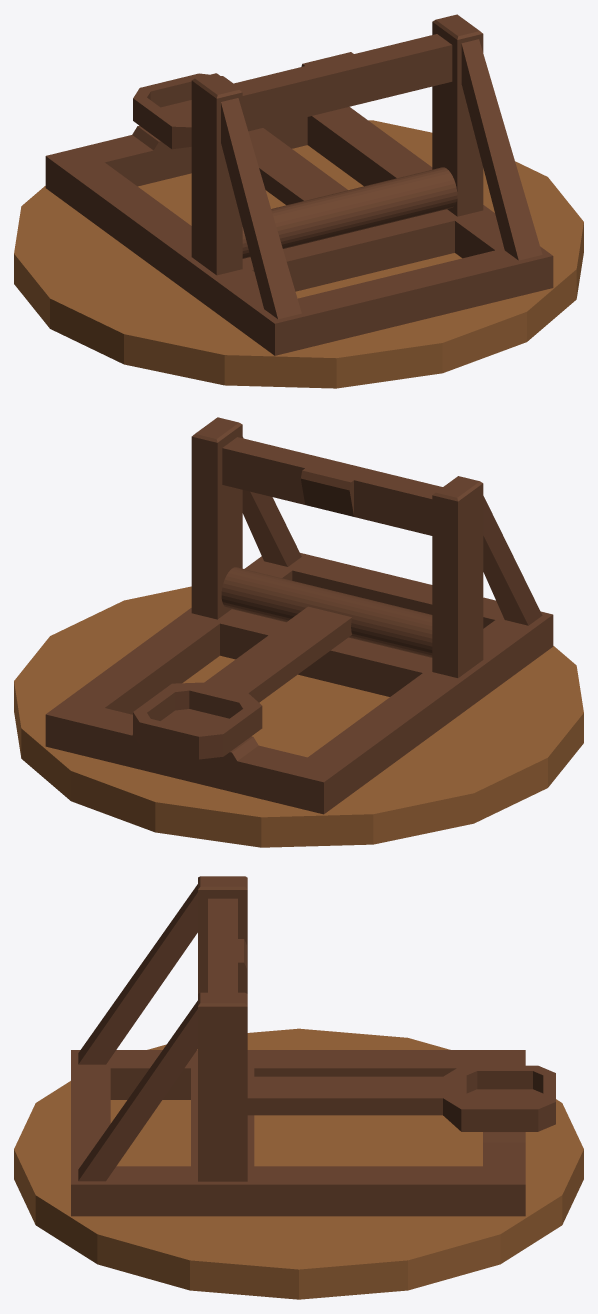
File: Catapult_1.fbx
3 renders of one model, top to bottom at view 1: azimuth 30°, elevation 25°; view 2: azimuth 150°, elevation 25°; view 3: azimuth 270°, elevation 25°, orthographic.
Visible parts, largest first — view 1: Catapult_1, mobile_catapult-1; view 2: Catapult_1, mobile_catapult-1; view 3: Catapult_1, mobile_catapult-1.
Boxes of the visible parts, box(x1,y1,x2,y2) form: Catapult_1: box(14, 14, 583, 388); mobile_catapult-1: box(133, 73, 457, 258); Catapult_1: box(14, 417, 583, 847); mobile_catapult-1: box(133, 567, 432, 759); Catapult_1: box(14, 876, 583, 1299); mobile_catapult-1: box(247, 1065, 555, 1131).
Size of the model in its own units: 0.6 by 0.2782 by 0.6.
